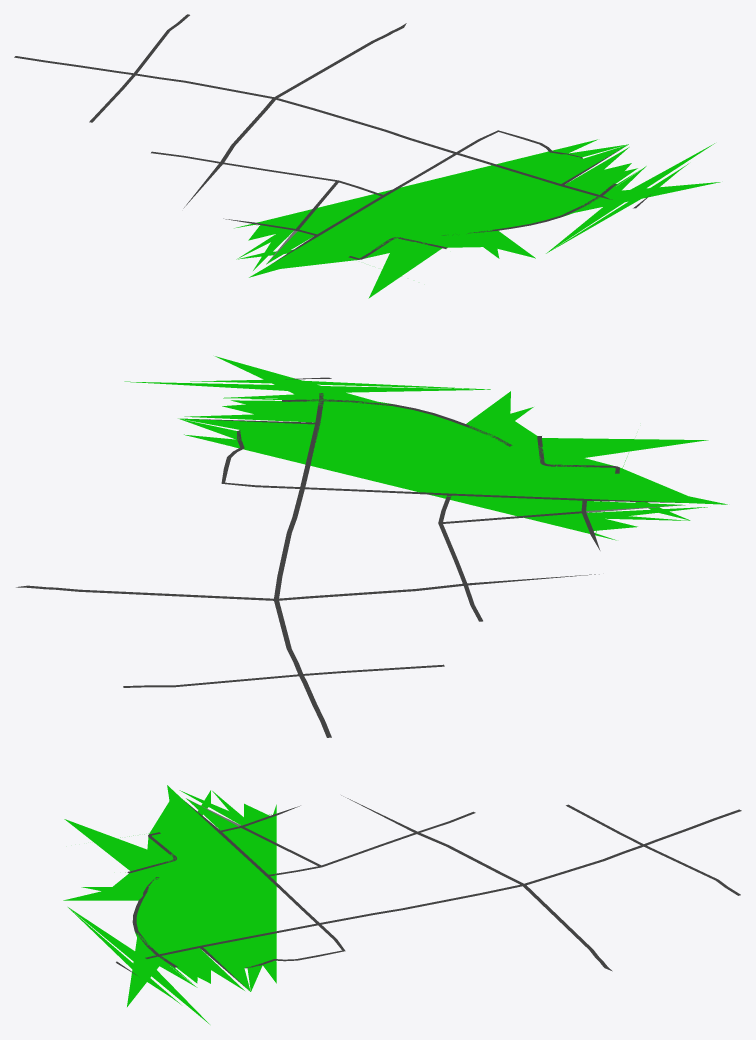
The picture shows the model from 3 angles, top to bottom: view 1: azimuth 30°, elevation 25°; view 2: azimuth 150°, elevation 25°; view 3: azimuth 270°, elevation 25°; orthographic projection. The views are drawn at different scales.
Bounding box in the file's own units: 560 × 0 × 665.
